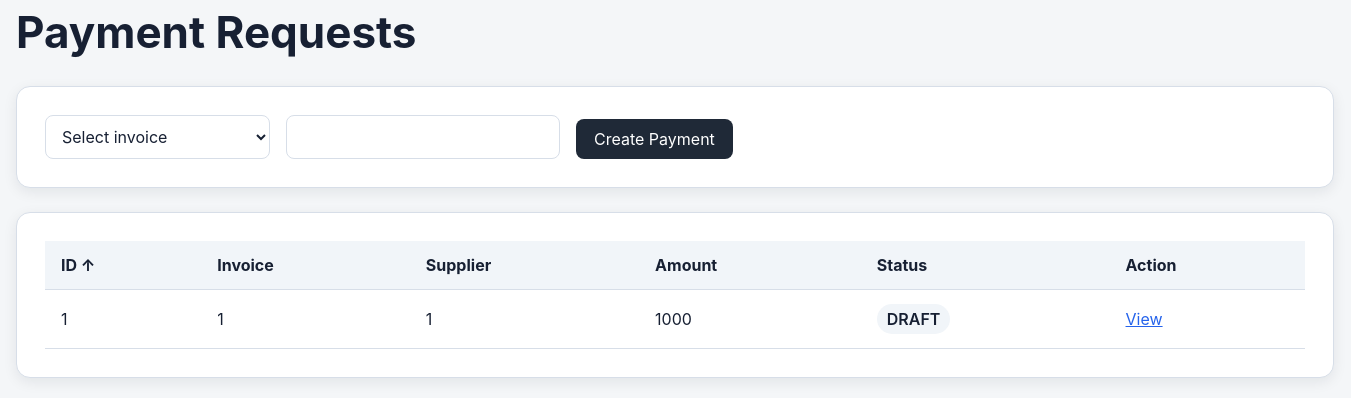
Test: PaymentsPage › fills payment amount when invoice is selected
Expected: the text "DRAFT" is shown, [877, 304, 950, 334]
Select "INV-002 - Supplier Two" in the dropdown at (158, 137), box [45, 115, 270, 159]
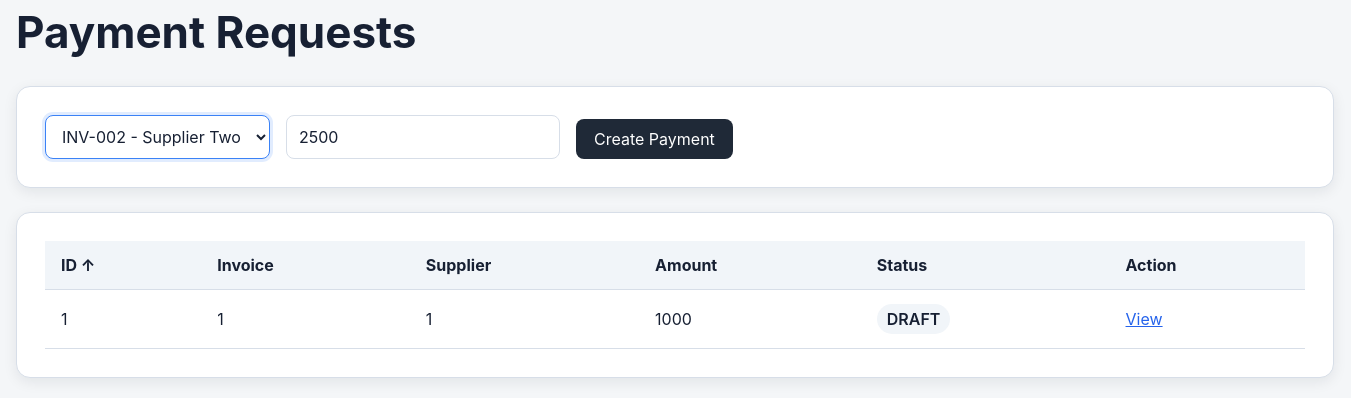
Now the number field holds "2500", box [286, 115, 560, 159]
